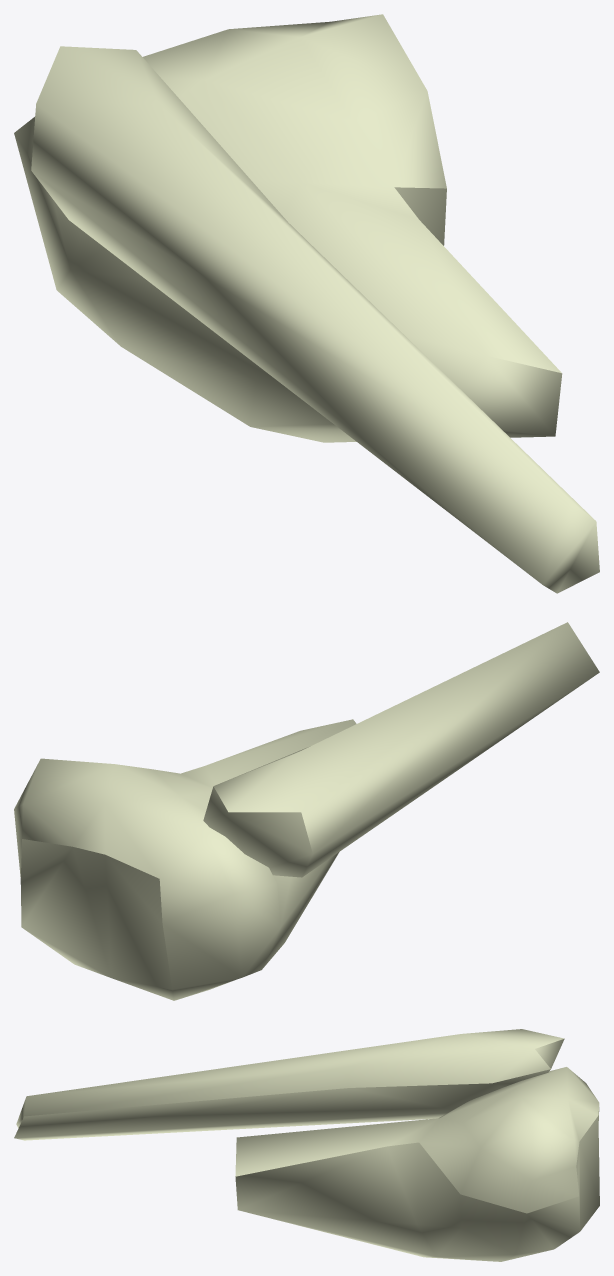
Rendered from T_broken_bone_4.fbx.
3 views of the same model, one above another, from view 1: azimuth 30°, elevation 25°; view 2: azimuth 150°, elevation 25°; view 3: azimuth 270°, elevation 25° (orthographic). The views are drawn at different scales.
Parts seen in each view (by area): view 1: Cylinder; view 2: Cylinder; view 3: Cylinder.
Part boxes in pixels (<box>): Cylinder: <box>14,14,599,593</box>; Cylinder: <box>14,622,599,1000</box>; Cylinder: <box>14,1029,599,1261</box>.
Size of the model in its own units: 158 by 128 by 362.
